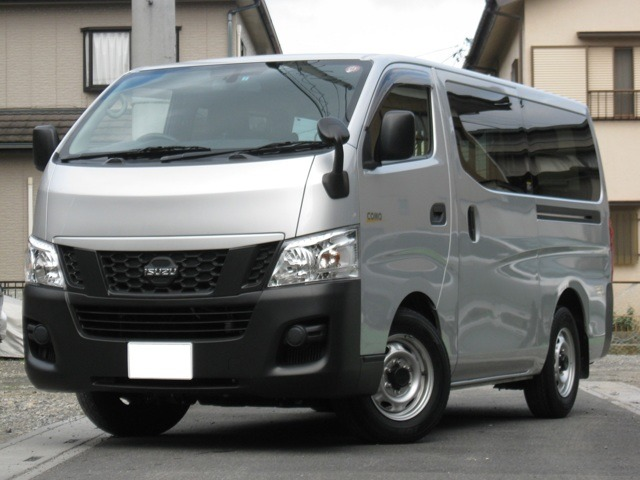van: (20, 51, 615, 442)
